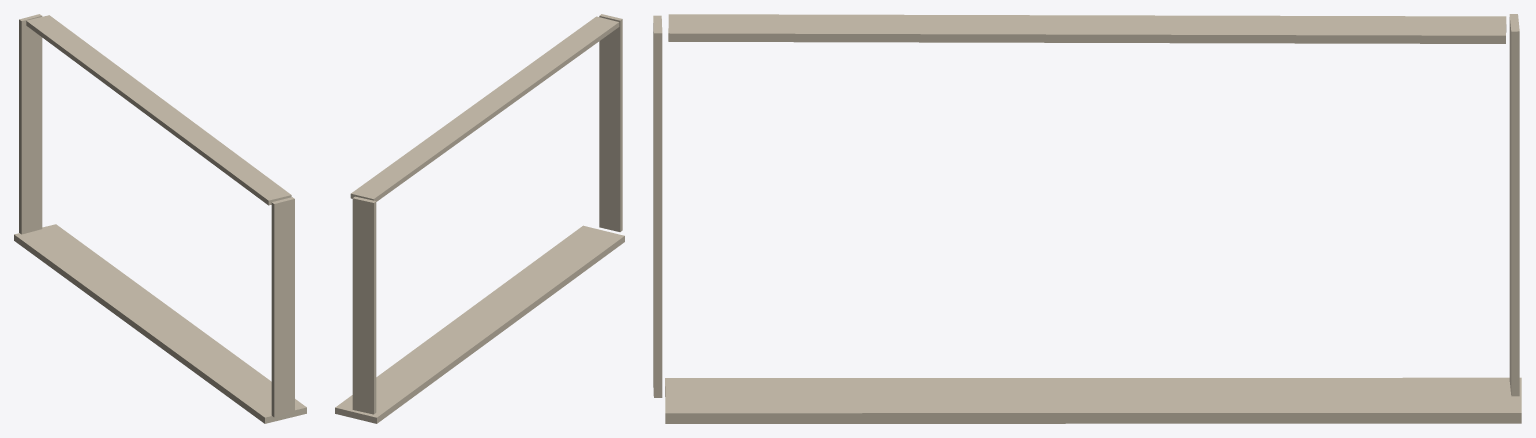
Rendered from Large Window Frame.fbx.
3 views of the same model, side by side, from view 1: azimuth 30°, elevation 25°; view 2: azimuth 150°, elevation 25°; view 3: azimuth 270°, elevation 25° (orthographic). The views are drawn at different scales.
Parts seen in each view (by area): view 1: LargeWindowFrame (×2), LargeWindowSill, LargeWindowFrame002; view 2: LargeWindowFrame (×2), LargeWindowSill, LargeWindowFrame002; view 3: LargeWindowSill, LargeWindowFrame (×2), LargeWindowFrame002.
Boxes of the visible parts, x1,y1,x2,y2 form: LargeWindowFrame (×2): (26,15,294,417); LargeWindowSill: (14,224,306,423); LargeWindowFrame002: (19,14,42,234); LargeWindowFrame (×2): (350,14,622,231); LargeWindowSill: (335,225,624,423); LargeWindowFrame002: (352,196,376,414); LargeWindowSill: (665,377,1521,423); LargeWindowFrame (×2): (653,14,1506,397); LargeWindowFrame002: (1509,14,1519,396).
Size of the model in its own units: 19.4 by 96.57 by 201.
